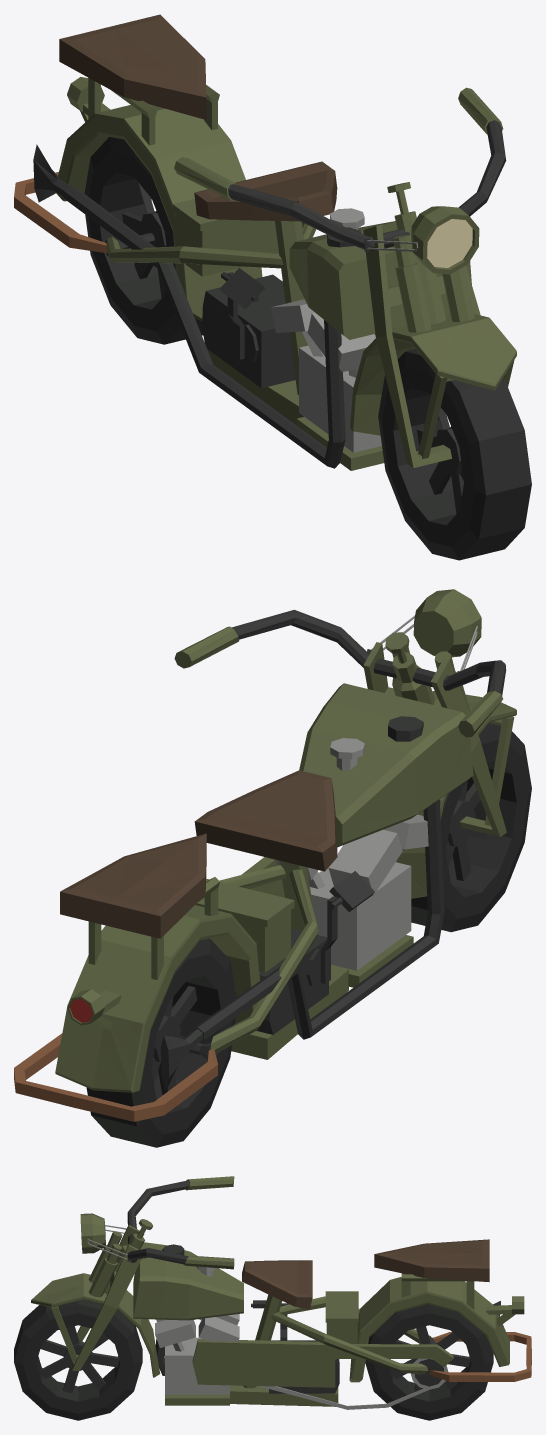
Rendered from vehicle_motorcycle.glb.
3 views of the same model, one above another, from view 1: azimuth 30°, elevation 25°; view 2: azimuth 150°, elevation 25°; view 3: azimuth 270°, elevation 25° (orthographic). The views are drawn at different scales.
Visible parts, largest first — view 1: body, steer, wheel_front, wheel_rear; view 2: body, steer, wheel_rear, wheel_front; view 3: body, steer, wheel_front, wheel_rear.
Part boxes in pixels (<box>): body: <box>14,14,471,470</box>; steer: <box>174,87,516,467</box>; wheel_front: <box>378,349,531,560</box>; wheel_rear: <box>84,137,203,344</box>; body: <box>14,683,473,1121</box>; steer: <box>174,589,516,898</box>; wheel_rear: <box>86,938,236,1147</box>; wheel_front: <box>411,723,531,932</box>; body: <box>133,1239,531,1409</box>; steer: <box>31,1176,234,1377</box>; wheel_front: <box>14,1300,142,1420</box>; wheel_rear: <box>365,1304,493,1420</box>.
Size of the model in its own units: 1.04 by 1.1 by 2.6.
